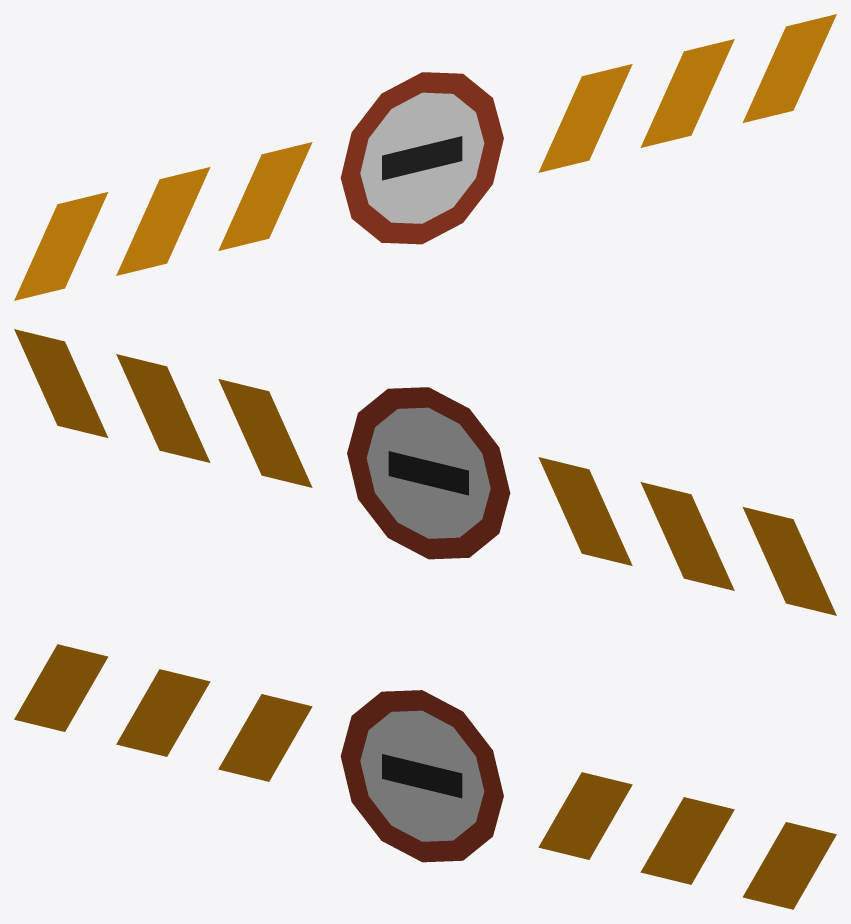
Rendered from NoPass.fbx.
3 renders of one model, top to bottom at view 1: azimuth 30°, elevation 25°; view 2: azimuth 150°, elevation 25°; view 3: azimuth 330°, elevation 25°, orthographic.
Parts seen in each view (by area): view 1: Cube; view 2: Cube; view 3: Cube.
Boxes of the visible parts, x1=… form: Cube: x1=14, y1=14, x2=836, y2=300; Cube: x1=14, y1=329, x2=836, y2=615; Cube: x1=14, y1=644, x2=836, y2=909.
Size of the model in its own units: 1000 by 200 by 2.66e-05.
Materials: 1 (1 with a texture image).
